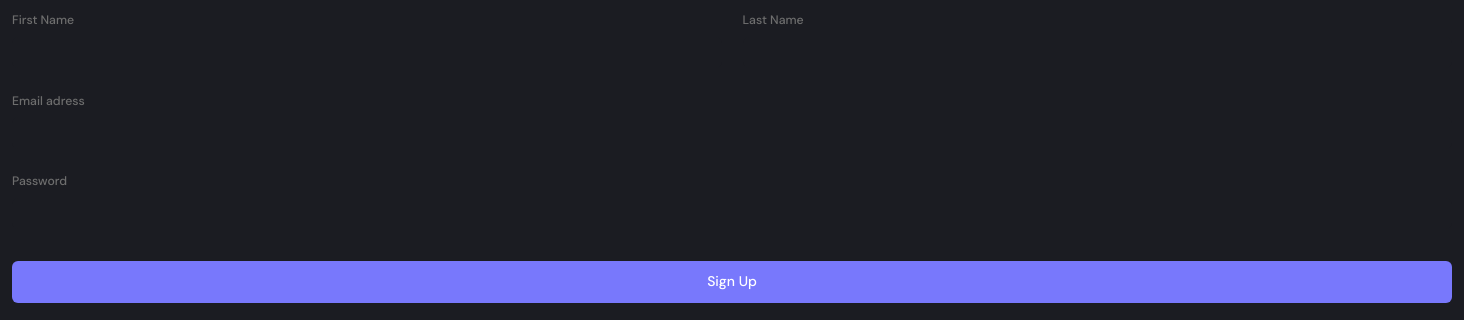
it: RegisterPage › Validation › shows required field errors on empty submit
Click the button "Sign Up" at x=732, y=282, box [12,260,1452,302]
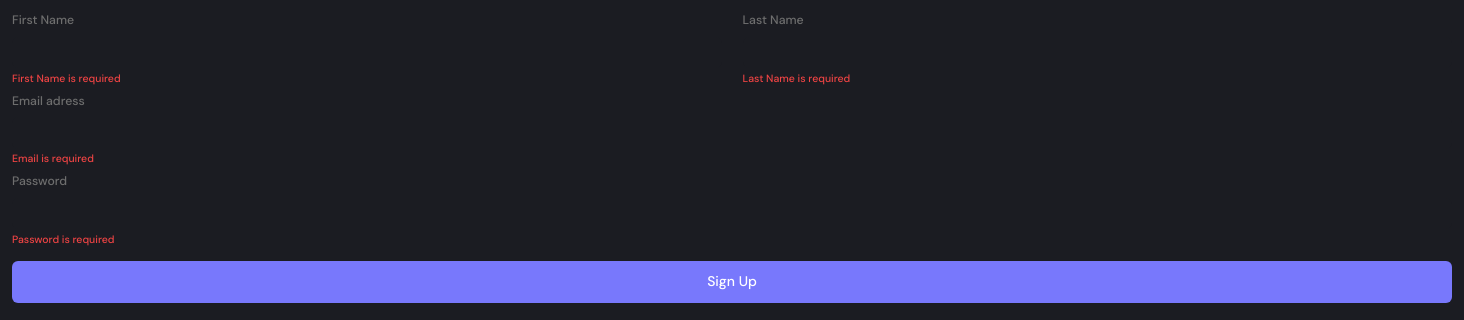
Check: the text "First Name is required" is shown, box [12,72,121,86]
Check: the text "Last Name is required" is shown, box [742,72,850,86]
Check: the text "Email is required" is shown, box [12,152,94,166]
